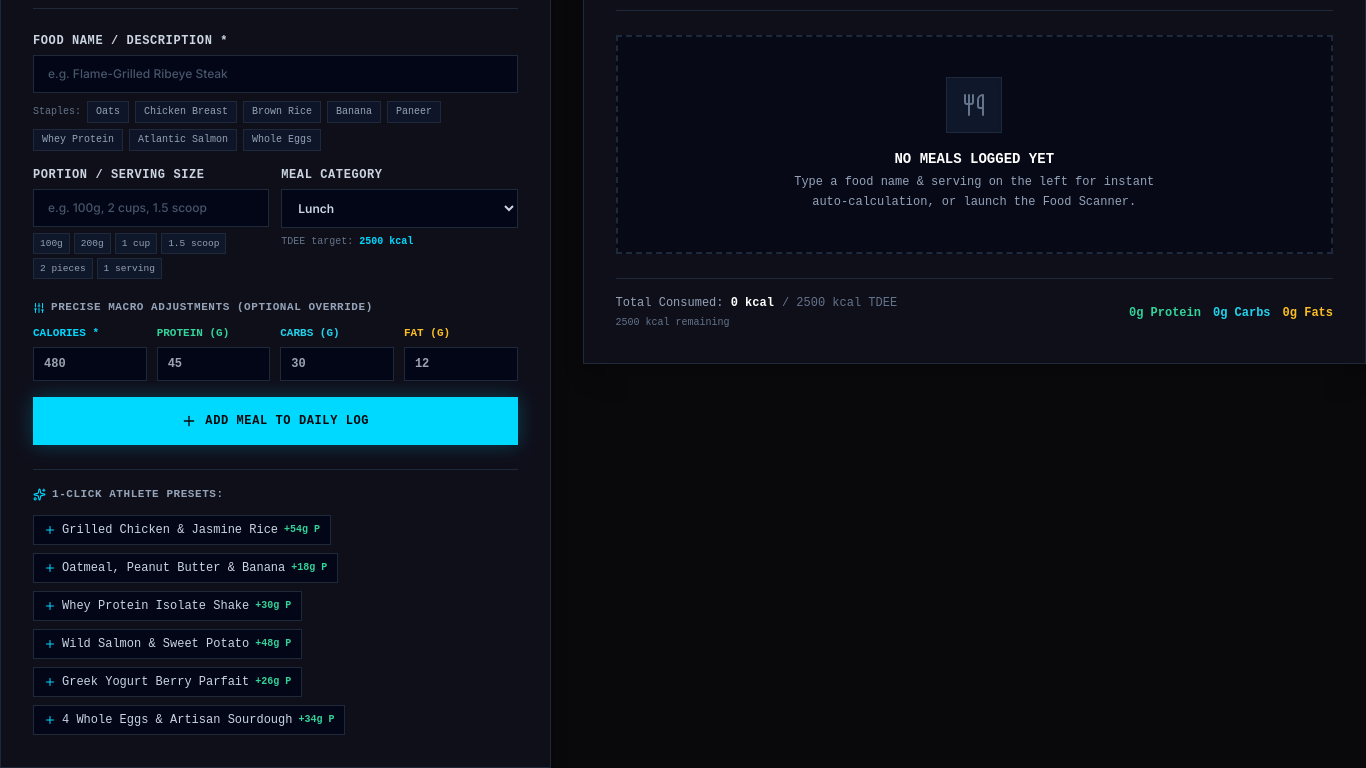
Test case: MealLogger Component › removes meal when delete button is clicked and recalculates totals
This screenshot has width=1366, height=768.
(page scrolled)
Click the text "Whey Protein Isolate Shake" at (156, 606), box [62,598,249,614]
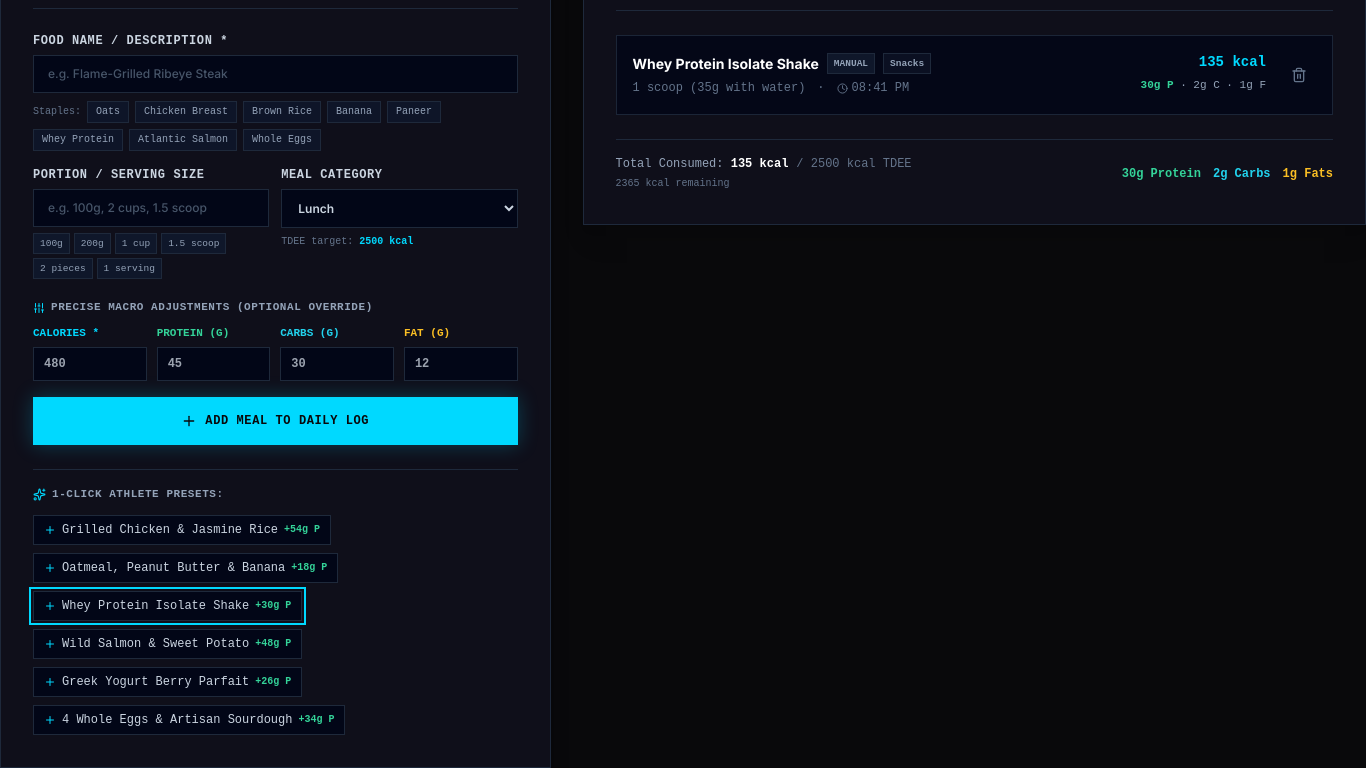
Expected: the text "Whey Protein Isolate Shake" is shown 2 times, [62,598,249,614]; [632,54,819,74]
Click the button named "Delete Whey Protein Isolate Shake" at (1299, 75), box [1282,58,1316,92]
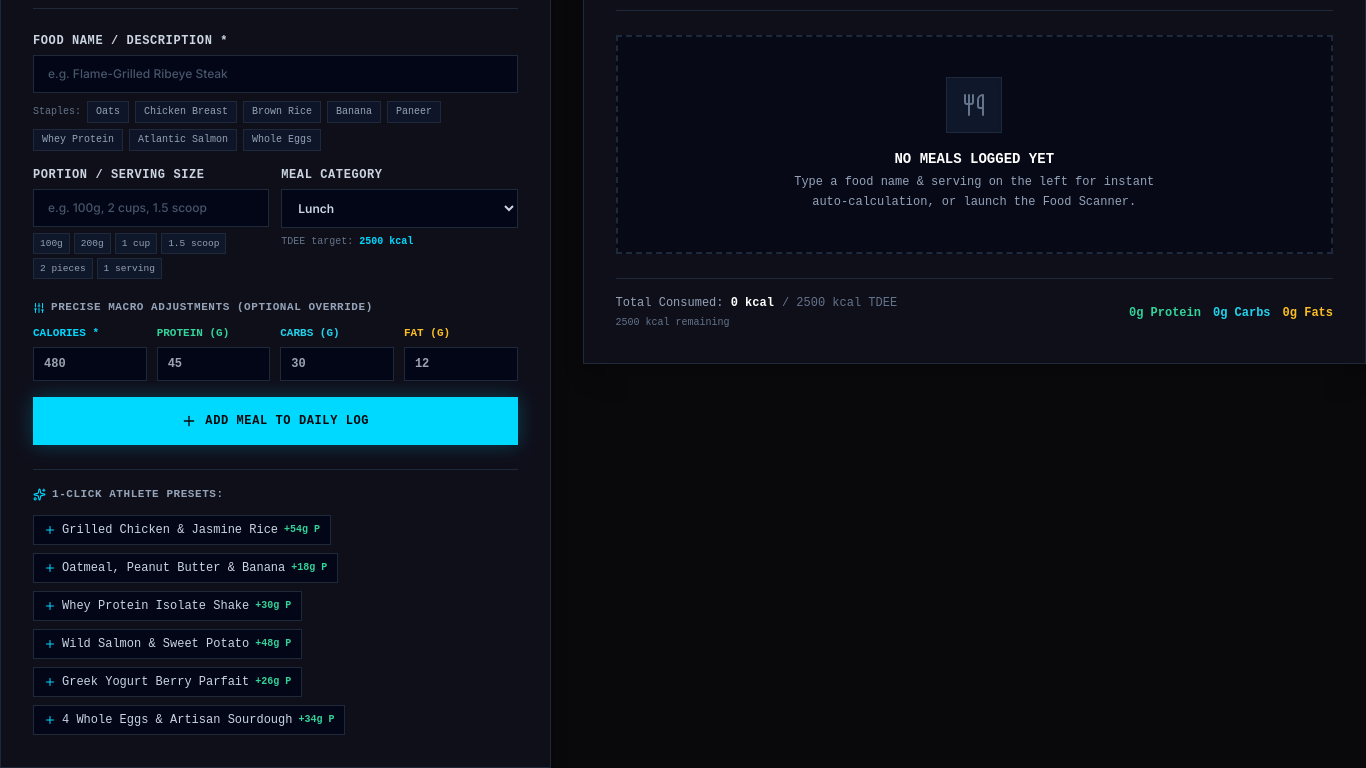
Expected: the text "Whey Protein Isolate Shake" is shown once, [62,598,249,614]
Expected: the heading "No Meals Logged Yet" is shown, [894,151,1054,167]
